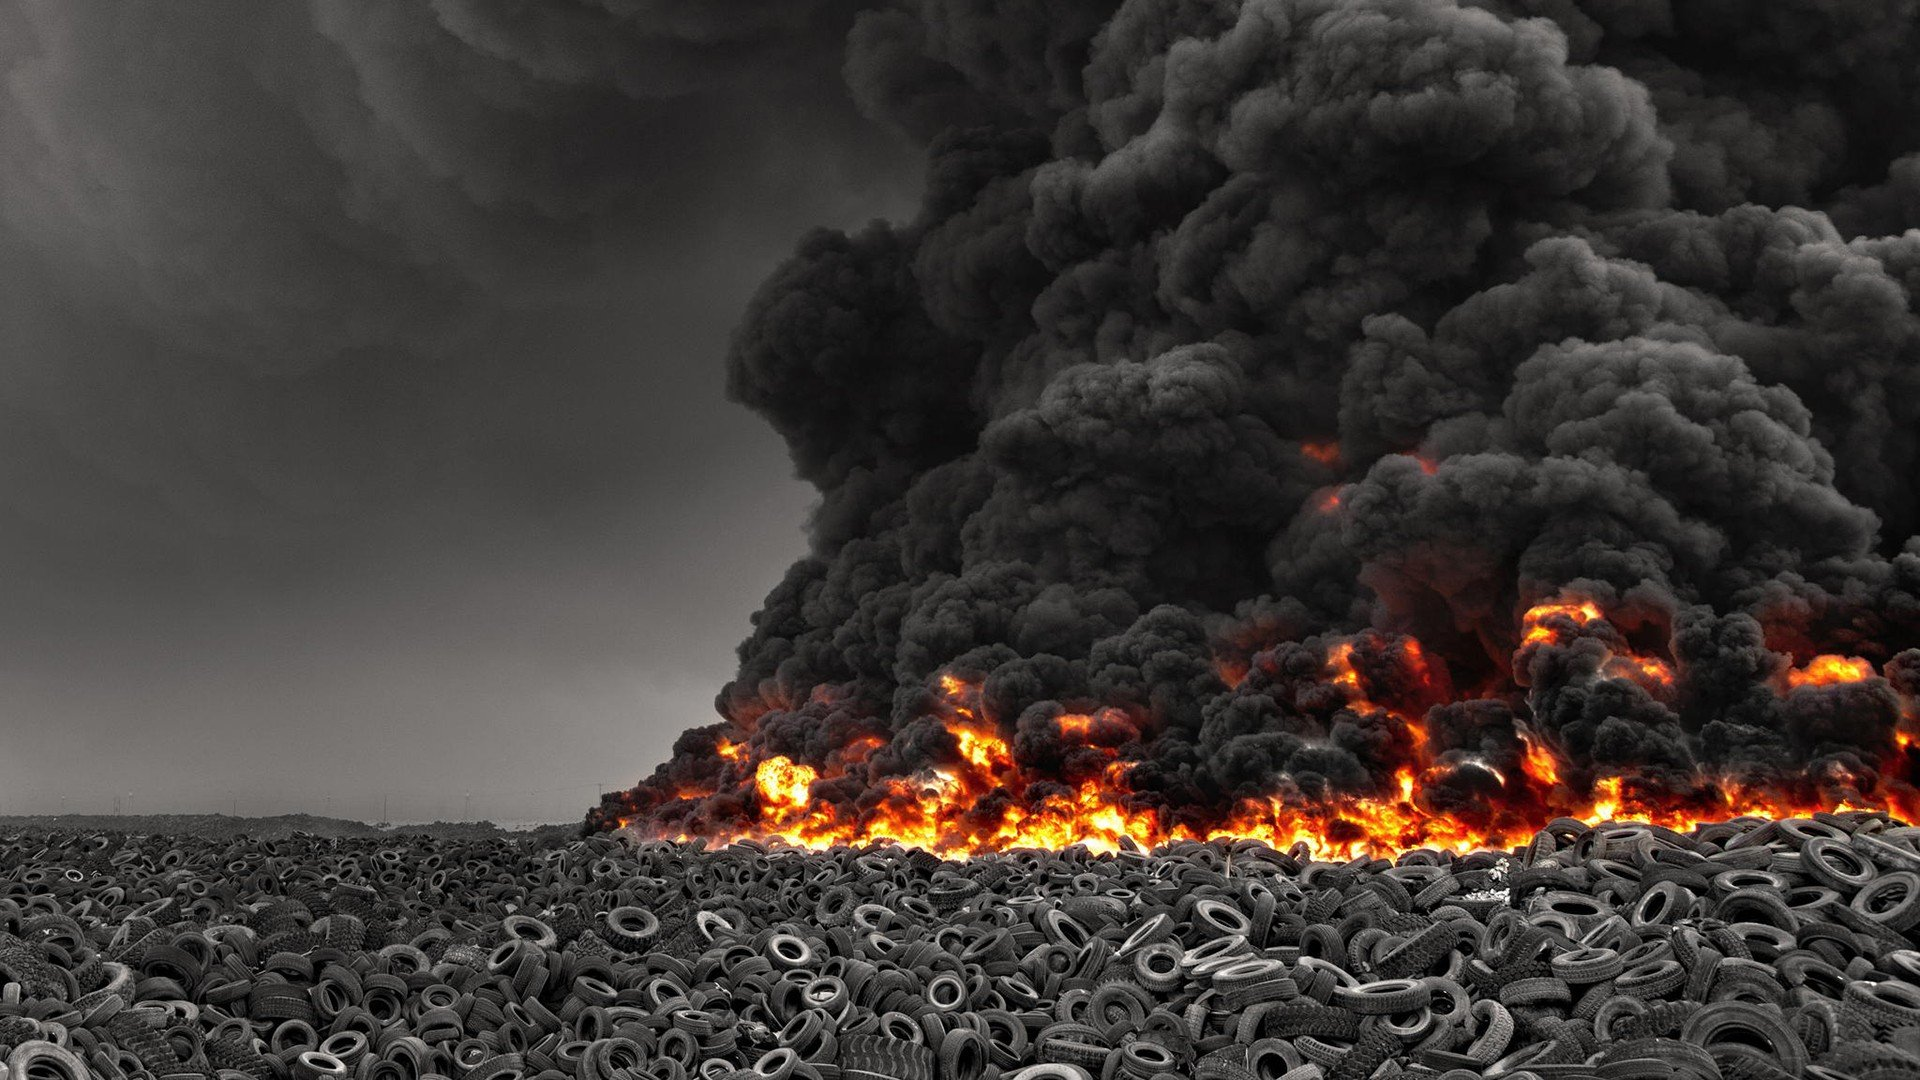fire: (700, 676, 1909, 884)
